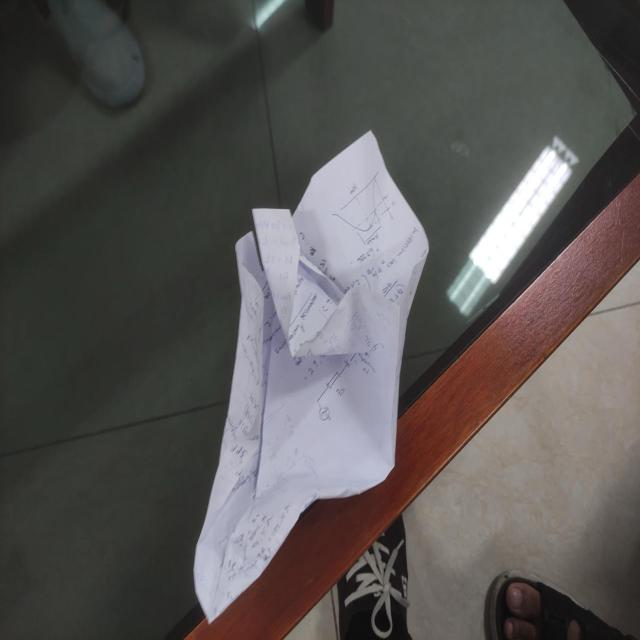KertasBekas: (192, 128, 430, 623)
